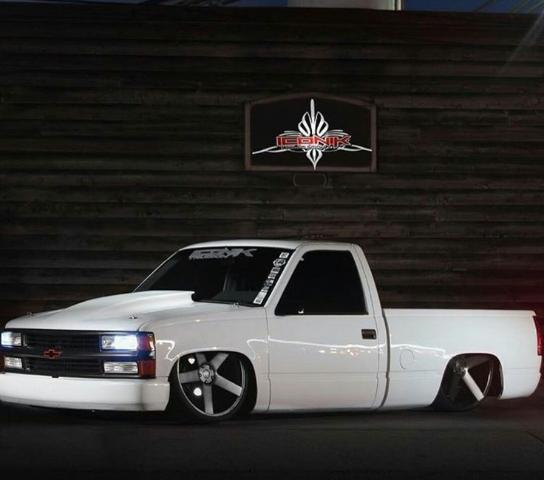pickup-truck: (1, 239, 544, 423)
